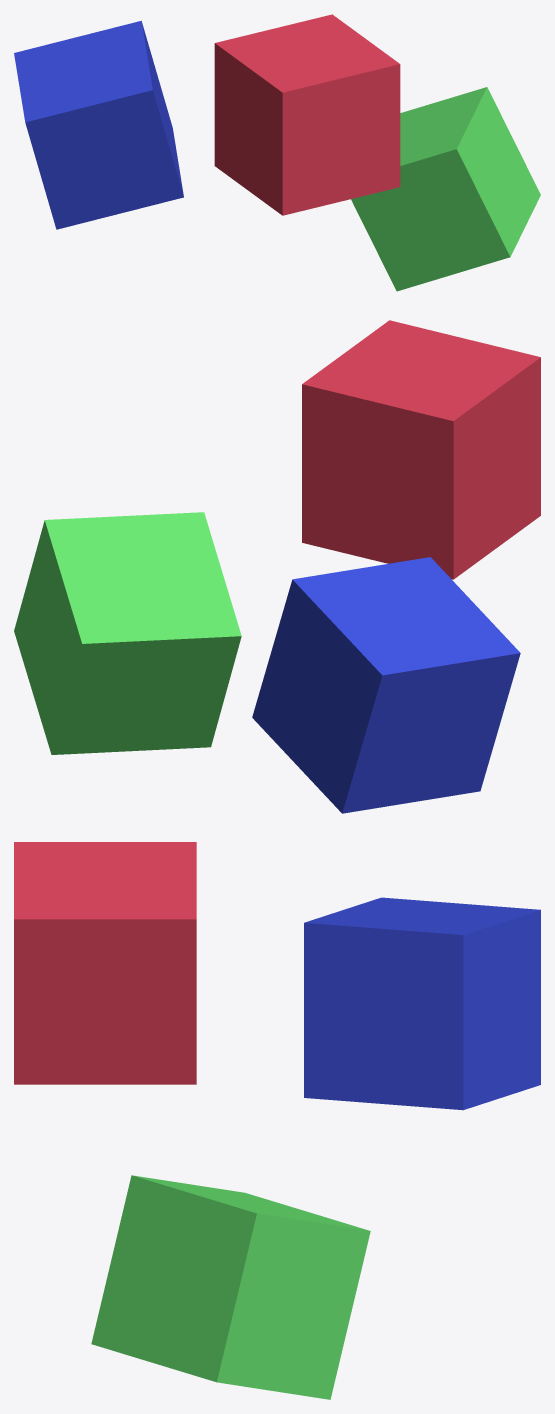
Rendered from Cubes.glb.
3 renders of one model, top to bottom at view 1: azimuth 30°, elevation 25°; view 2: azimuth 150°, elevation 25°; view 3: azimuth 270°, elevation 25°, orthographic. The views are drawn at different scales.
Parts seen in each view (by area): view 1: Cube.001, Cube.002, Cube.003; view 2: Cube.001, Cube.002, Cube.003; view 3: Cube.002, Cube.003, Cube.001.
Part boxes in pixels (box(x1,y1,x2,y2)): Cube.001: box(214, 14, 400, 215); Cube.002: box(14, 20, 183, 229); Cube.003: box(351, 87, 540, 291); Cube.001: box(302, 320, 540, 579); Cube.002: box(252, 557, 520, 813); Cube.003: box(14, 512, 241, 754); Cube.002: box(304, 897, 540, 1110); Cube.003: box(91, 1175, 370, 1399); Cube.001: box(14, 842, 196, 1084).
Bounding box in the file's own units: 8.89 × 5.53 × 6.63.
